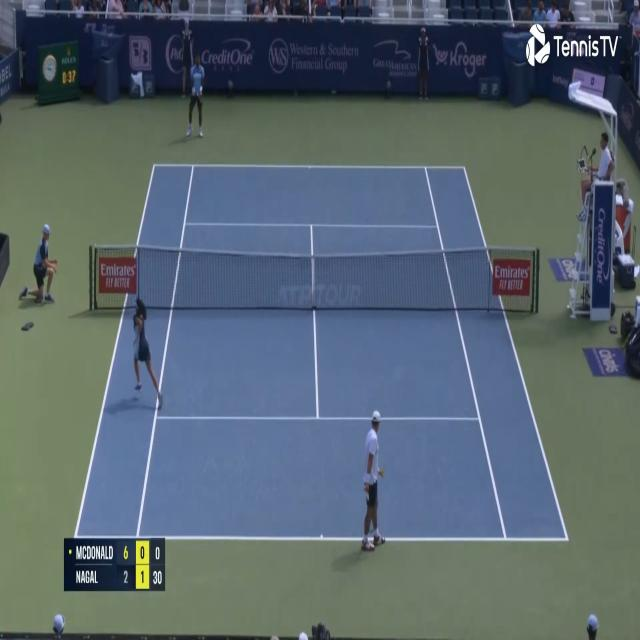tennis-player: (359, 408, 387, 558), (184, 51, 206, 140)
